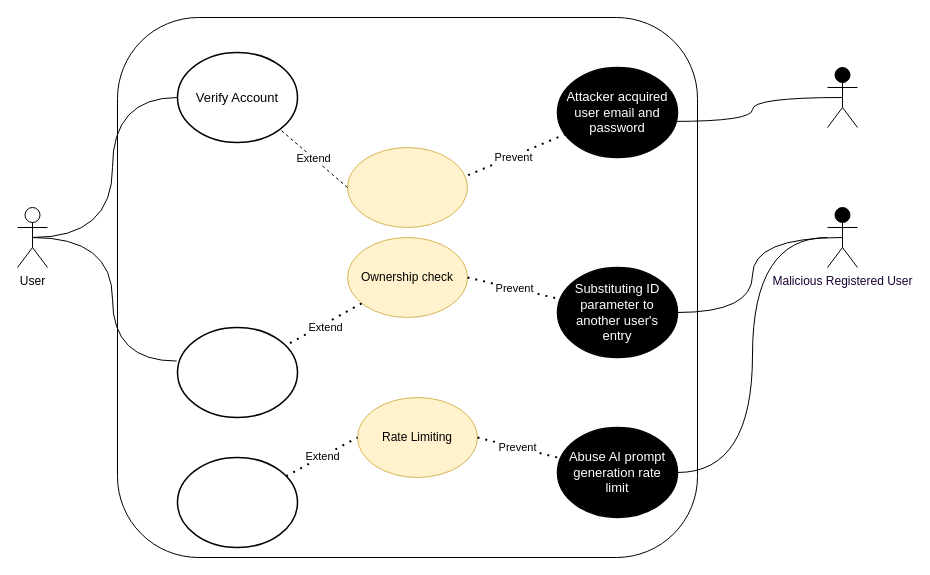
Some shapes in this 930 by 575 pixel diagram are drawn without their labels. Each missing label, with the centre of its shape:
2 Factor Authentication: [407,187]
Generate AI Prompt: [237,502]
Unauthenticated attacker: [842,97]
View Entries: [237,372]
